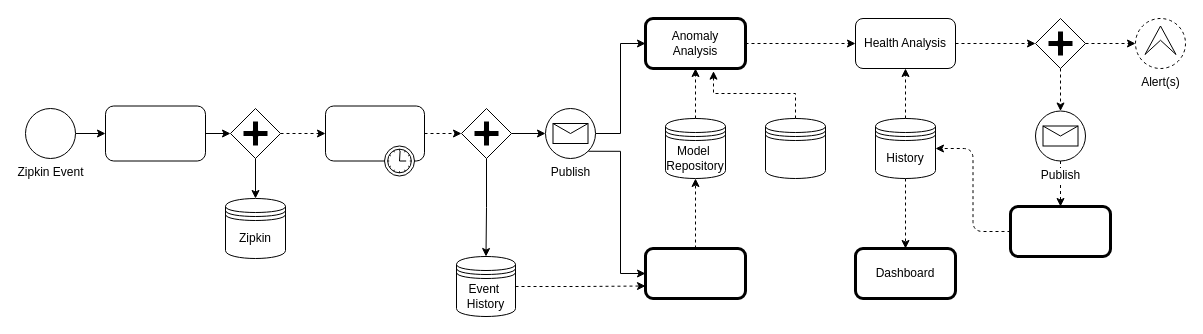
Image size: 1203x334. Some labels were removed from this diagram. The shapes that lost their labels are listed below. From the top down, each one's centre as x and y in pixels, then its label:
the point at 155,133: Clean Data
the point at 374,133: Summarize Data
the point at 795,148: Profile Repository
the point at 1060,231: Message Bus
the point at 695,273: Modelling
